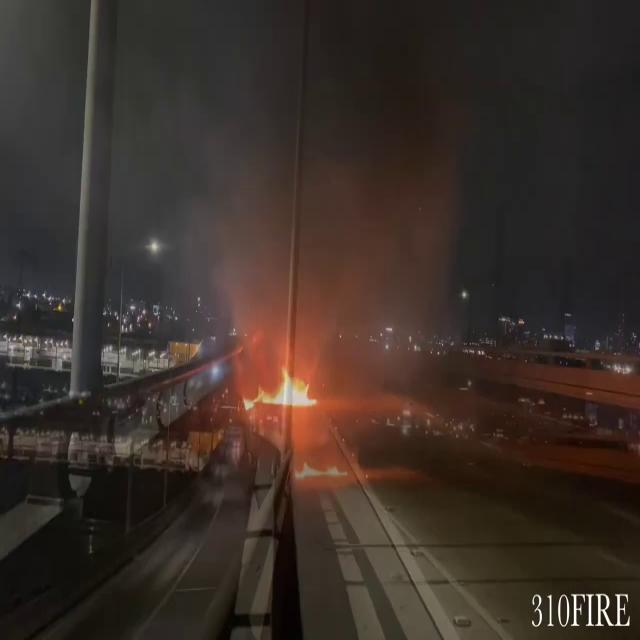Fire: (246, 358, 320, 422)
Smoke: (101, 11, 550, 336)
